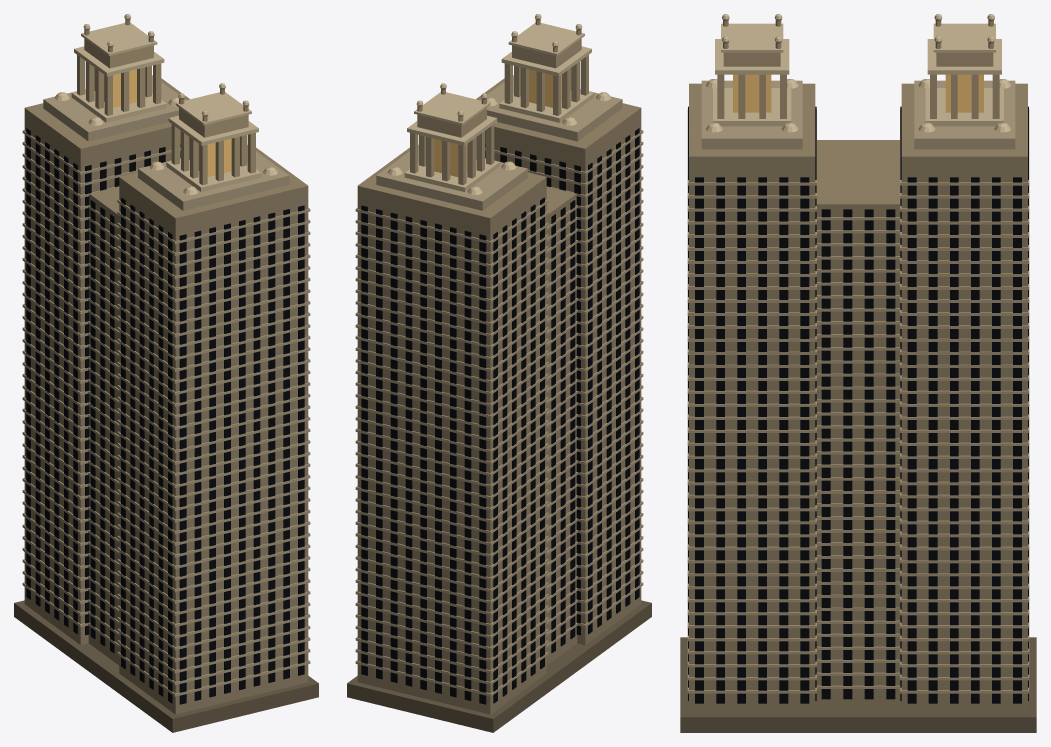
The model's file is atl-191-peachtree.glb.
3 renders of one model, left to right at view 1: azimuth 30°, elevation 25°; view 2: azimuth 150°, elevation 25°; view 3: azimuth 270°, elevation 25°, orthographic. The views are drawn at different scales.
Visible parts, largest first — view 1: p191-tower, p191-crowns, p191-crown-glow; view 2: p191-tower, p191-crowns, p191-crown-glow; view 3: p191-tower, p191-crowns, p191-crown-glow.
Boxes of the visible parts, left/top/right/bottom form: p191-tower: left=14, top=75, right=318, bottom=732; p191-crowns: left=55, top=14, right=277, bottom=195; p191-crown-glow: left=104, top=69, right=231, bottom=176; p191-tower: left=347, top=75, right=651, bottom=732; p191-crowns: left=388, top=14, right=610, bottom=195; p191-crown-glow: left=434, top=69, right=561, bottom=176; p191-tower: left=680, top=80, right=1036, bottom=732; p191-crowns: left=705, top=14, right=1011, bottom=132; p191-crown-glow: left=733, top=74, right=983, bottom=112.
Bounding box in the file's own units: 66 × 256 × 124.
